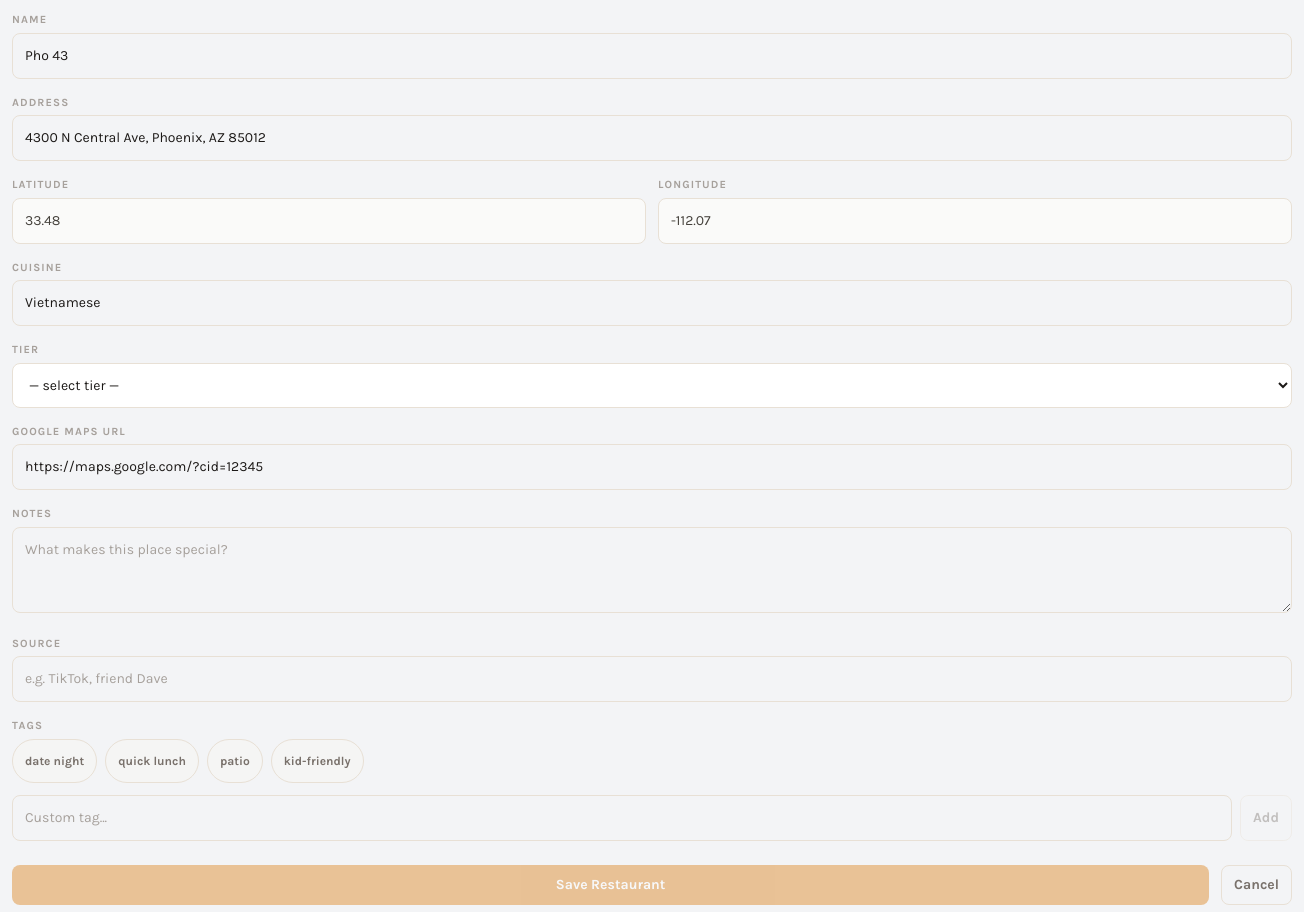
Test: RestaurantDraftForm › Save button is enabled after tier is selected
Select "Loved" in the dropdown labelled "Tier". click: (652, 385)
box: [12,362,1292,408]
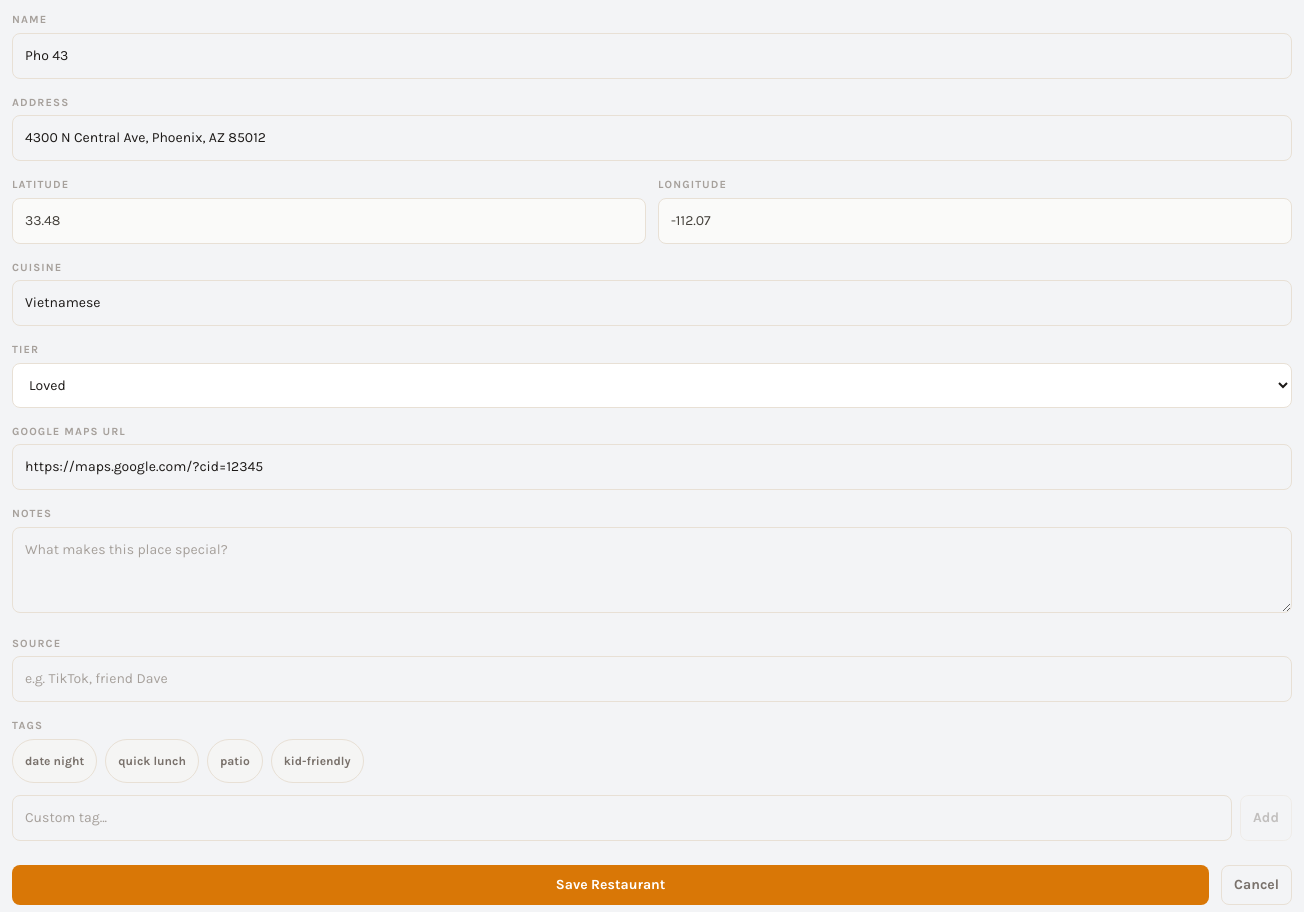
Expected: the button "Save Restaurant" is enabled, [12,864,1209,904]
